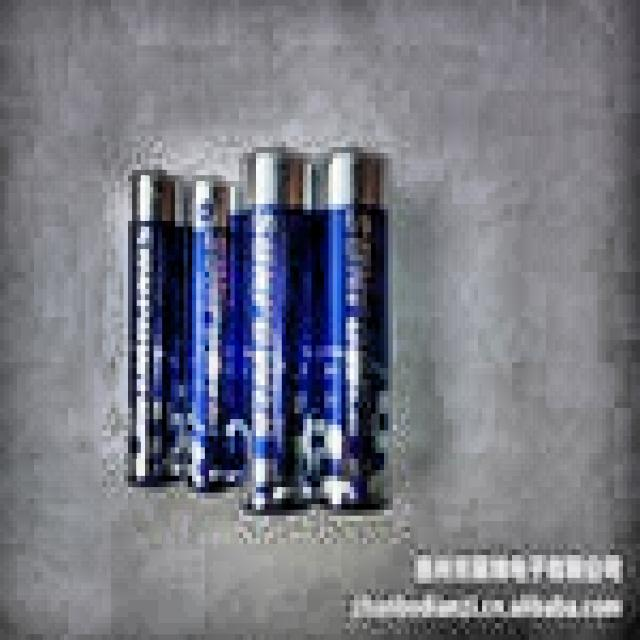Non-Valuable Waste - Batteries: (131, 148, 387, 510)
